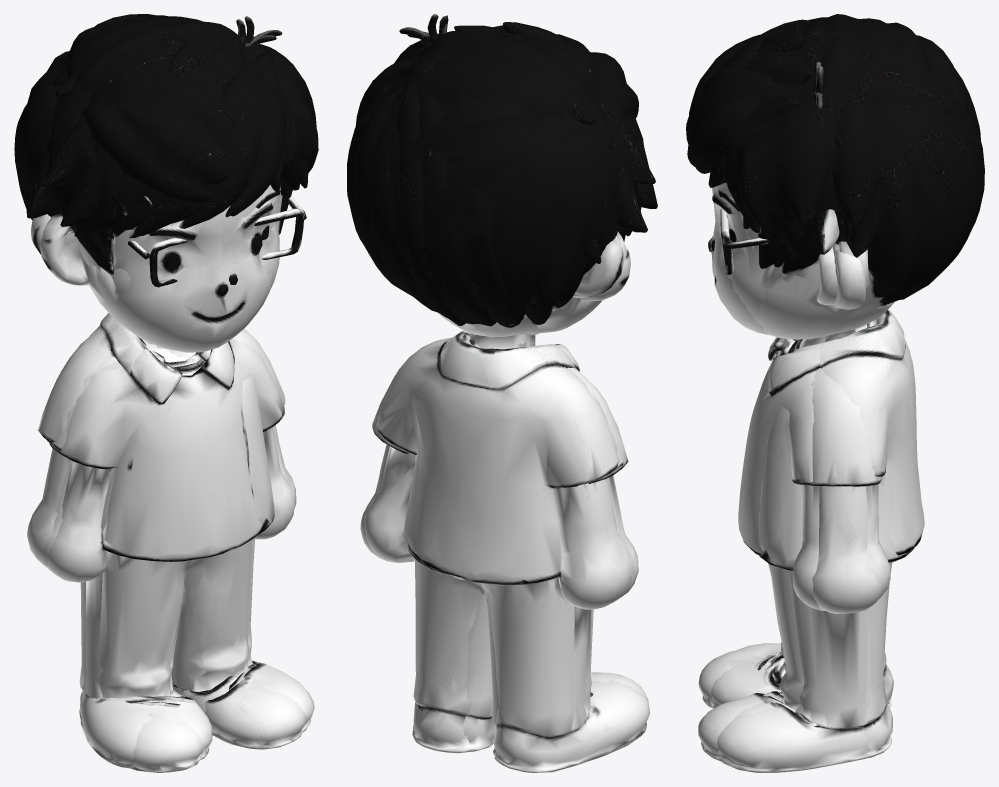
File: boys.glb
3 renders of one model, left to right at view 1: azimuth 30°, elevation 25°; view 2: azimuth 150°, elevation 25°; view 3: azimuth 270°, elevation 25°, orthographic. The views are drawn at different scales.
Parts seen in each view (by area): view 1: boy3, boy4, boy2, boy1; view 2: boy4, boy2, boy1, boy3; view 3: boy2, boy4, boy3, boy1.
Part boxes in pixels (<box>): boy3: <box>40,36,306,772</box>; boy4: <box>14,14,294,768</box>; boy2: <box>26,16,318,759</box>; boy1: <box>31,15,308,720</box>; boy4: <box>364,31,649,772</box>; boy2: <box>347,14,657,755</box>; boy1: <box>390,15,634,751</box>; boy3: <box>382,22,648,711</box>; boy2: <box>686,37,984,772</box>; boy4: <box>689,14,978,757</box>; boy3: <box>698,23,883,761</box>; boy1: <box>687,44,980,735</box>.
Bounding box in the file's own units: 0.4206 × 1 × 0.3893.
Materials: 1 (1 with a texture image).
